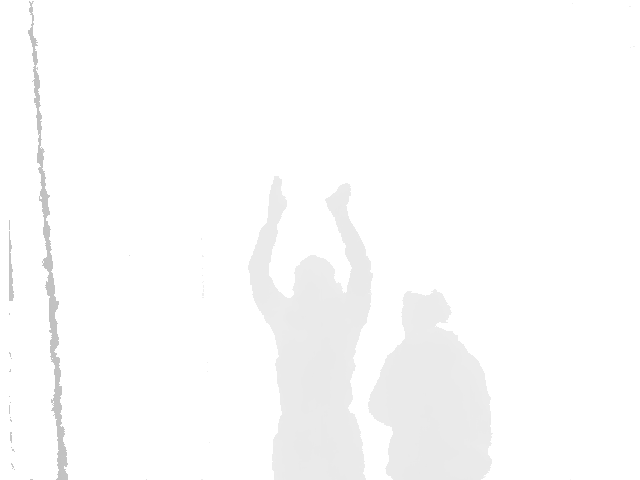hand: (264, 174, 289, 220), (325, 181, 354, 220)
head: (399, 290, 452, 342), (290, 256, 338, 298)
person: (248, 165, 373, 480), (370, 272, 495, 480)
